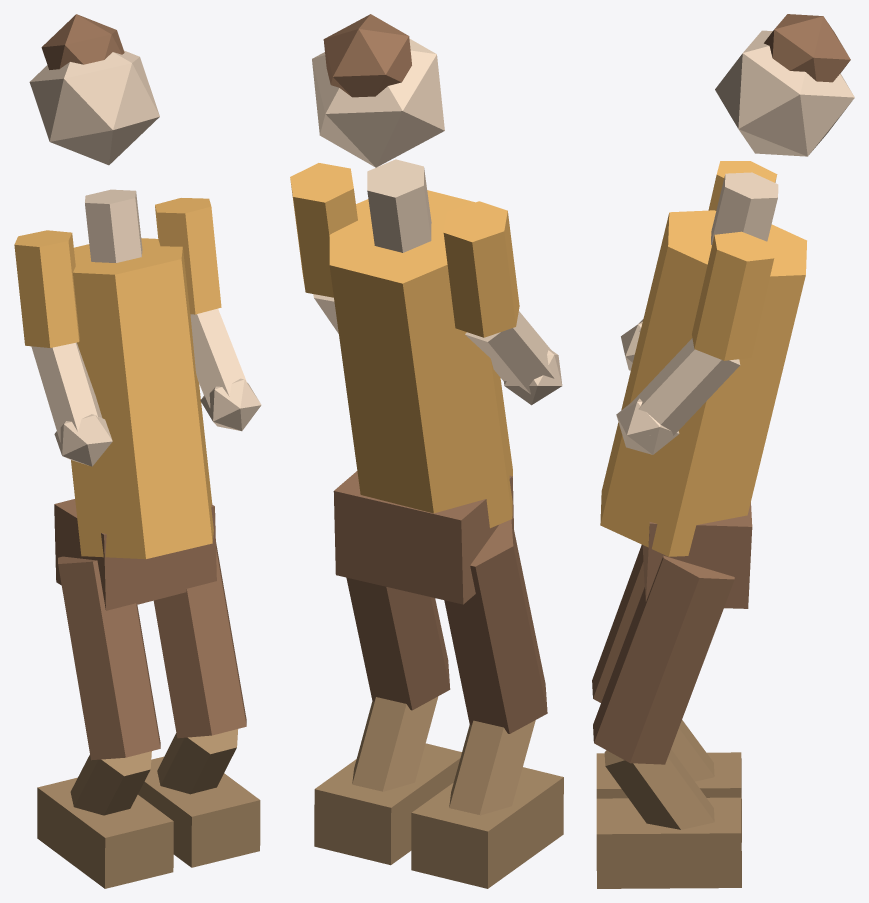
Rendered from pose_hit_light_01.glb.
3 views of the same model, side by side, from view 1: azimuth 30°, elevation 25°; view 2: azimuth 150°, elevation 25°; view 3: azimuth 270°, elevation 25° (orthographic). The views are drawn at different scales.
Visible parts, largest first — view 1: pose; view 2: pose; view 3: pose.
Boxes of the visible parts, x1=… form: pose: x1=14, y1=14, x2=261, y2=888; pose: x1=290, y1=14, x2=563, y2=888; pose: x1=592, y1=14, x2=854, y2=888.
Size of the model in its own units: 0.3992 by 1.52 by 0.4355.
